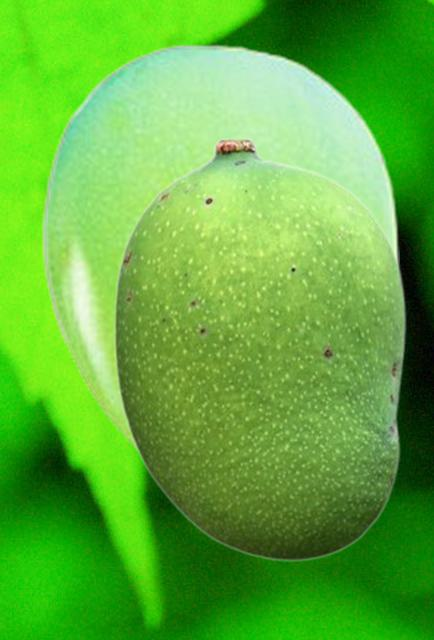green_mango: (40, 43, 398, 457), (112, 136, 405, 561)
